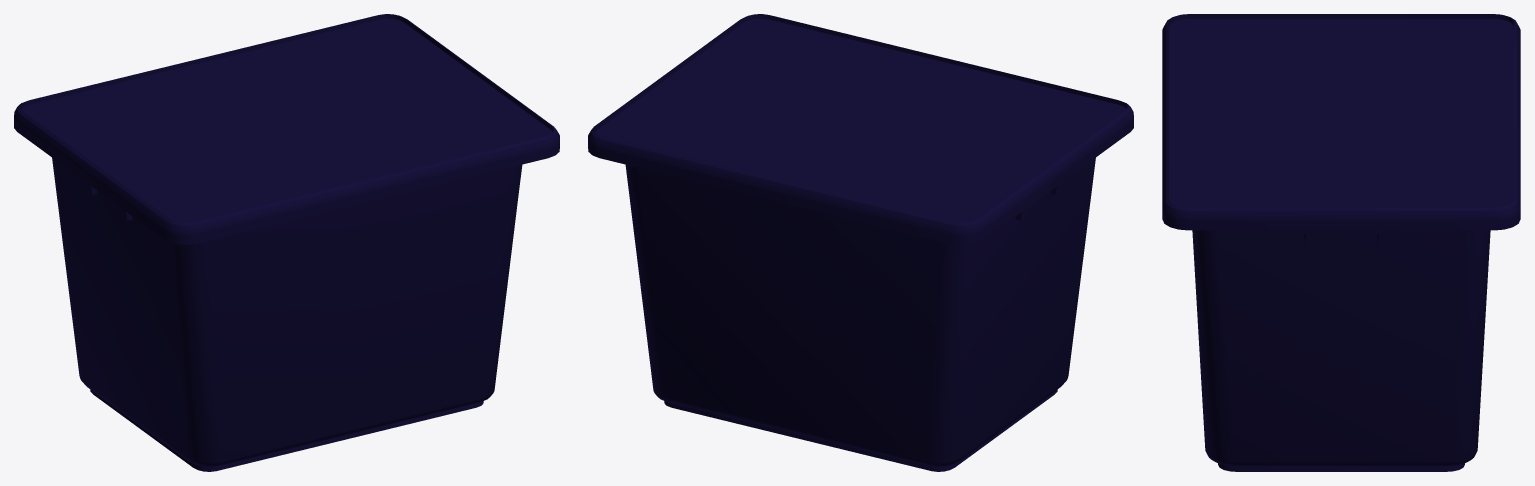
The model's file is Container.fbx.
3 views of the same model, side by side, from view 1: azimuth 30°, elevation 25°; view 2: azimuth 150°, elevation 25°; view 3: azimuth 270°, elevation 25° (orthographic). The views are drawn at different scales.
Visible parts, largest first — view 1: 11. bungkus plastik.002; view 2: 11. bungkus plastik.002; view 3: 11. bungkus plastik.002.
Boxes of the visible parts, <box> form: 11. bungkus plastik.002: <box>14,14,559,471</box>; 11. bungkus plastik.002: <box>588,14,1133,471</box>; 11. bungkus plastik.002: <box>1162,14,1520,471</box>.
Size of the model in its own units: 52.57 by 35.51 by 39.98.
